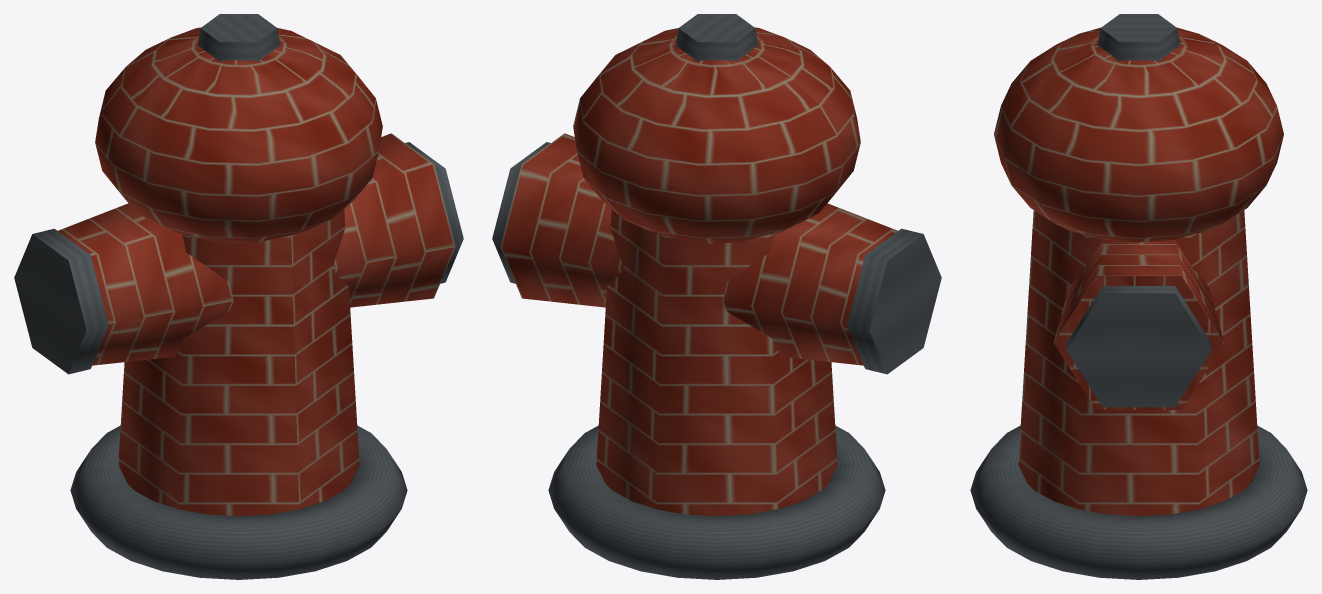
The model's file is service-fire-hydrant.lod1.gltf.
3 views of the same model, side by side, from view 1: azimuth 30°, elevation 25°; view 2: azimuth 150°, elevation 25°; view 3: azimuth 270°, elevation 25° (orthographic).
Visible parts, largest first — view 1: service-fire-hydrant; view 2: service-fire-hydrant; view 3: service-fire-hydrant.
Part boxes in pixels (left/top/right/bottom): service-fire-hydrant: left=14, top=14, right=463, bottom=579; service-fire-hydrant: left=492, top=14, right=941, bottom=579; service-fire-hydrant: left=970, top=14, right=1307, bottom=579.
Bounding box in the file's own units: 1.02 × 1.27 × 0.79.
2 materials, 2 textured.
